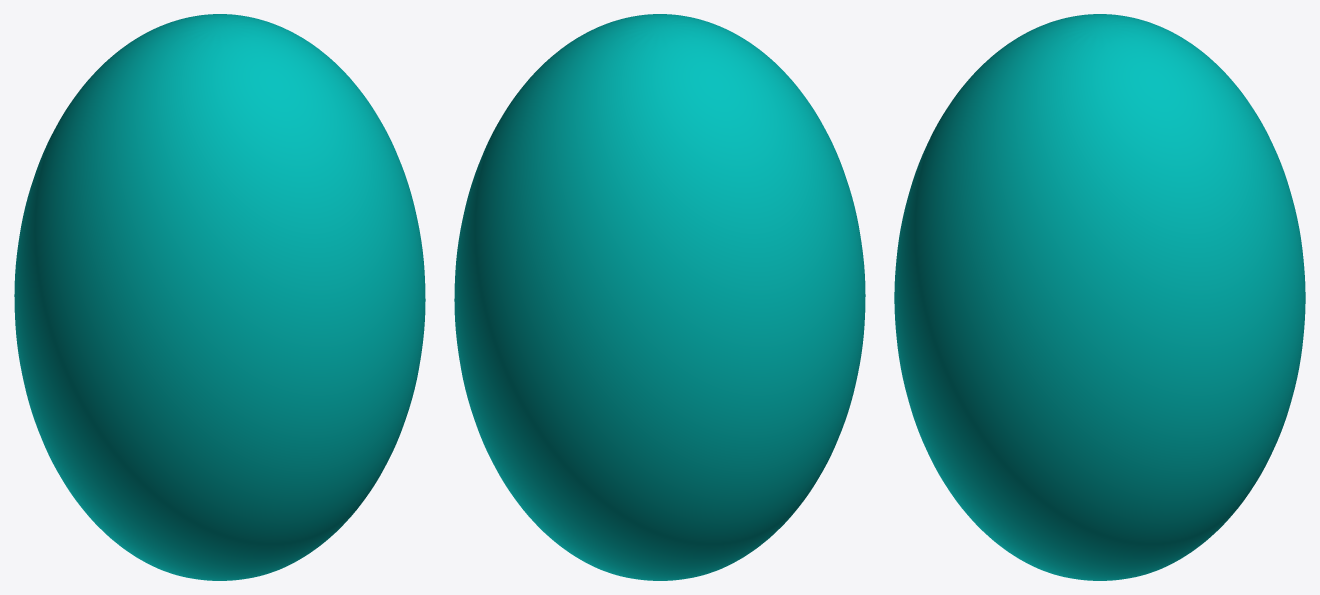
The model's file is Copy of StndBalloon1.1.fbx.
3 views of the same model, side by side, from view 1: azimuth 30°, elevation 25°; view 2: azimuth 150°, elevation 25°; view 3: azimuth 270°, elevation 25° (orthographic).
Visible parts, largest first — view 1: pSphere1; view 2: pSphere1; view 3: pSphere1.
Boxes of the visible parts, x1,y1,x2,y2 form: pSphere1: [14, 14, 425, 580]; pSphere1: [454, 14, 865, 580]; pSphere1: [894, 14, 1305, 580].
Size of the model in its own units: 68.66 by 101 by 68.66.
